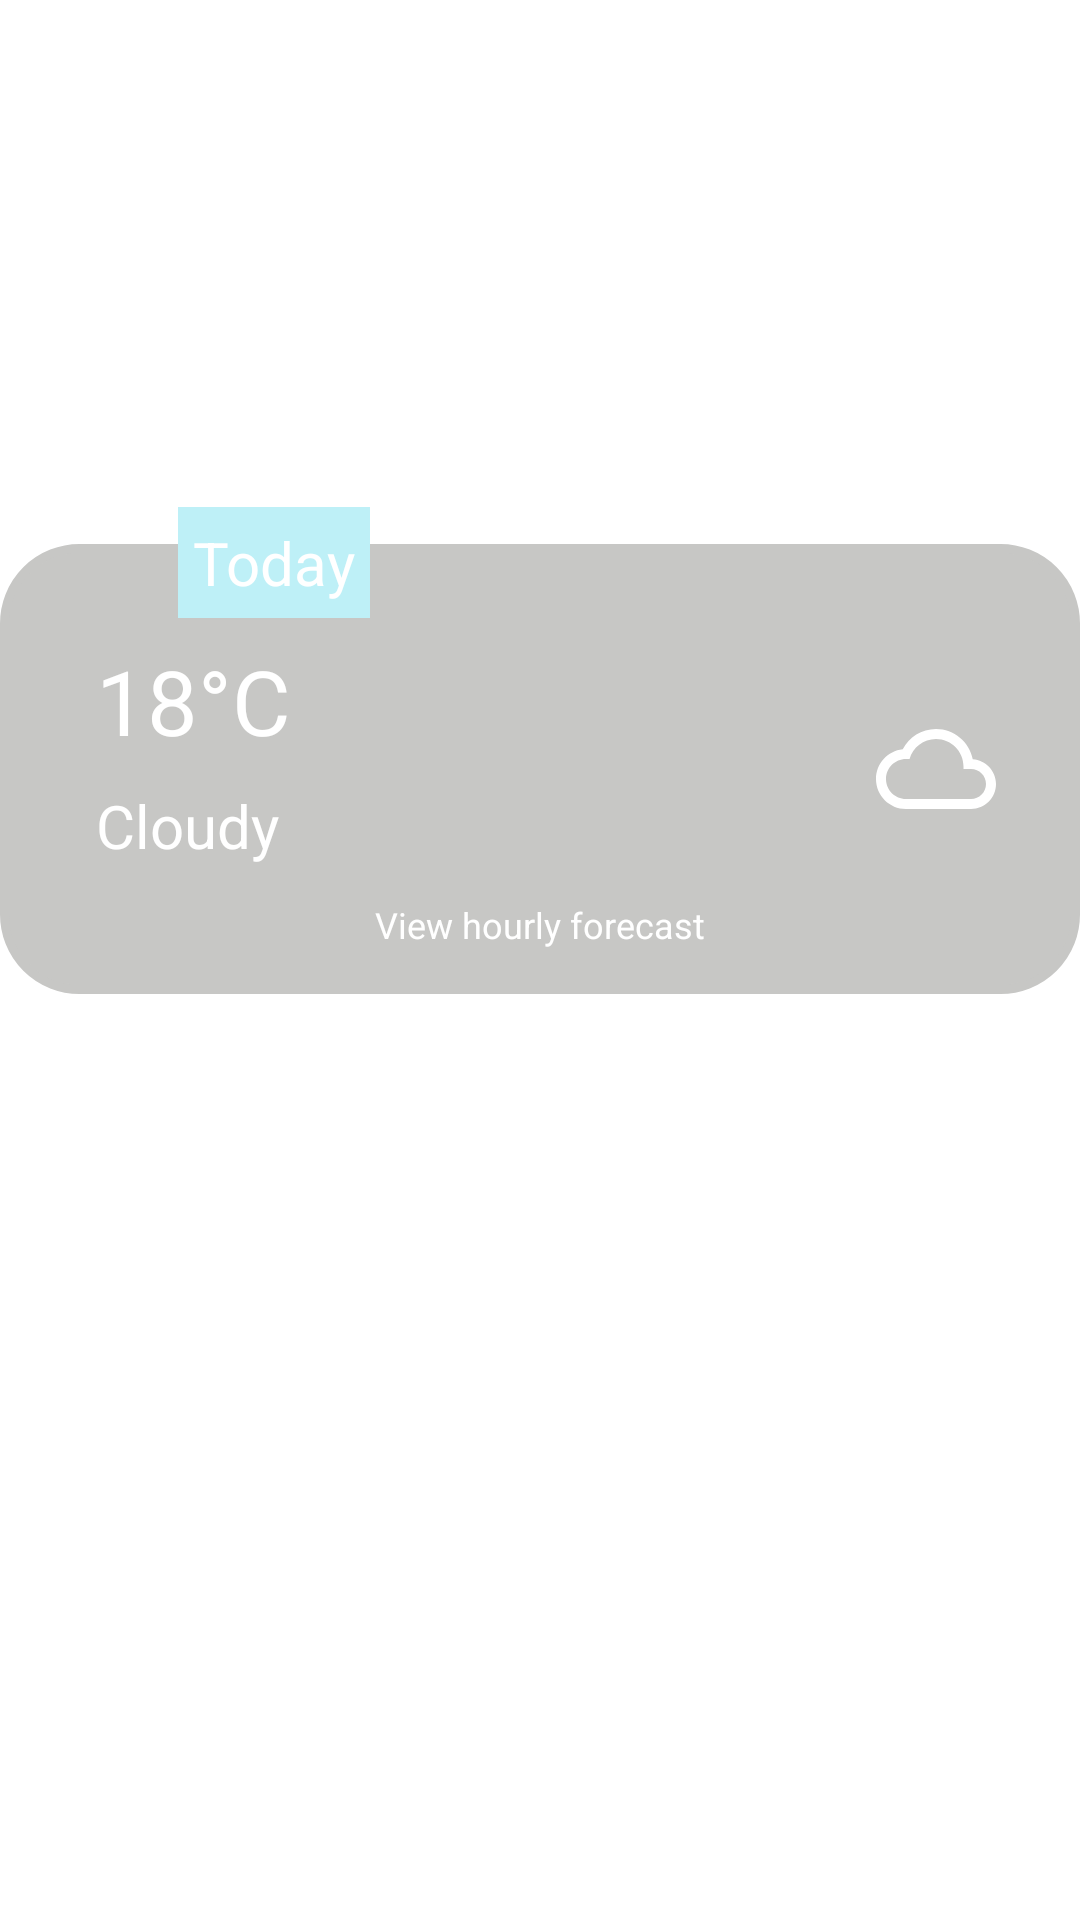

Icons on this 1080 x 1920 Android screen, each with its box as (x1, y1, x2, y2):
cloud queue: (876, 729, 996, 809)
